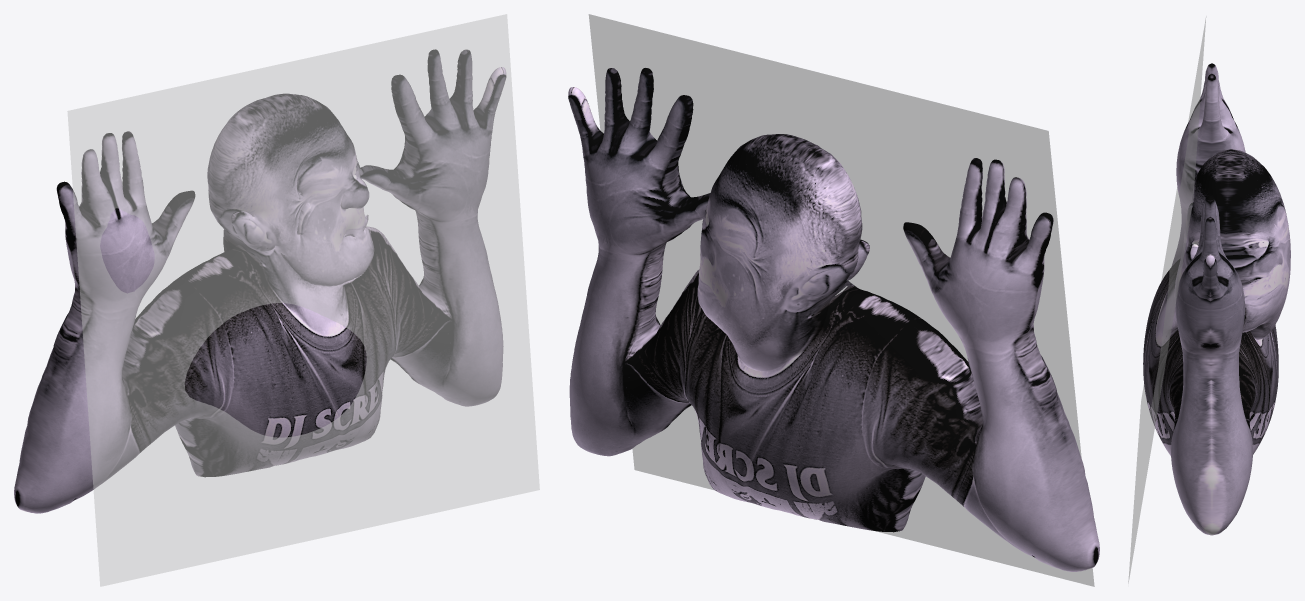
The picture shows the model from 3 angles, left to right: view 1: azimuth 30°, elevation 25°; view 2: azimuth 150°, elevation 25°; view 3: azimuth 270°, elevation 25°; orthographic projection. The views are drawn at different scales.
Parts seen in each view (by area): view 1: Plane, Mesh_0.002; view 2: Mesh_0.002, Plane; view 3: Mesh_0.002, Plane.
Part boxes in pixels (box(x1,y1,x2,y2)): Plane: box(67, 14, 539, 586); Mesh_0.002: box(14, 49, 506, 513); Mesh_0.002: box(568, 68, 1099, 571); Plane: box(588, 14, 1094, 586); Mesh_0.002: box(1143, 63, 1290, 535); Plane: box(1128, 16, 1206, 583).
Bounding box in the file's own units: 7.85 × 6.92 × 2.61.
2 materials, 1 textured.
